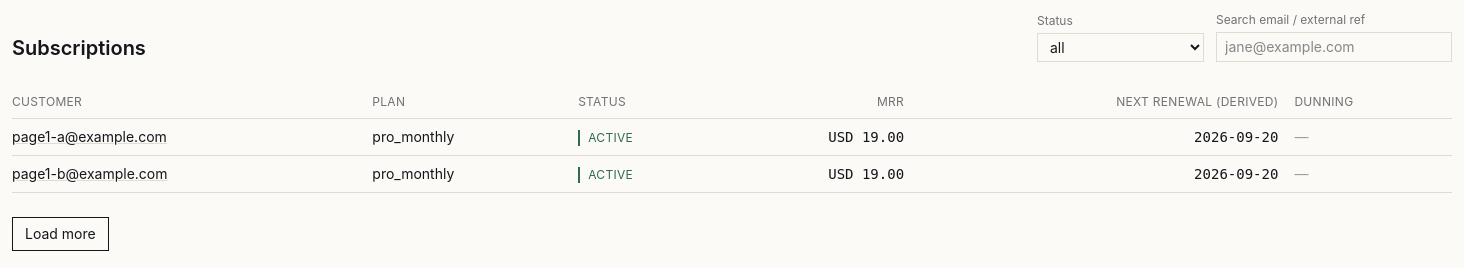
Test: SubscriptionsListPage load more pagination › discards a stale load-more page that resolves after the filter changed, instead of mixing it into the new filter's rows
The image size is (1464, 268).
Expected: the link "page1-a@example.com" is shown, [12,128,167,145]
Click the button "Load more": point(60, 234) [12,217,109,251]
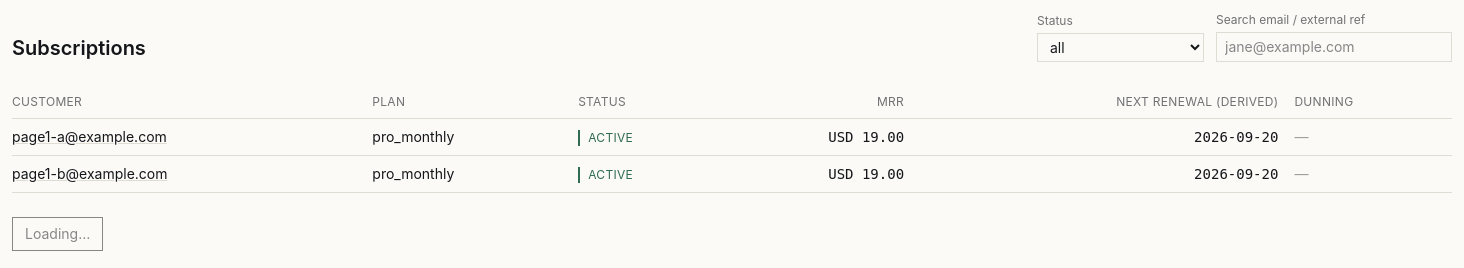
Select "active" in the dropdown labelled "Status": point(1120, 48) [1037,33,1204,62]
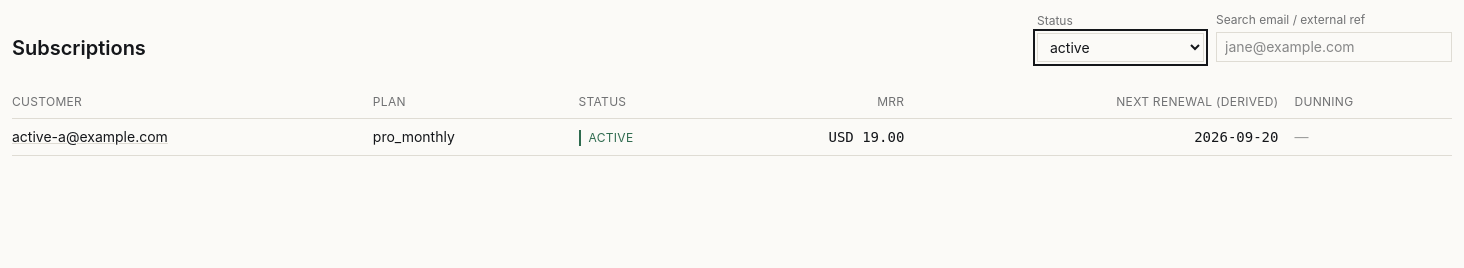
Result: the link "page1-a@example.com" is gone
Result: the button "Loading…" is gone
Result: the link "active-a@example.com" is shown at [12,128,168,145]
